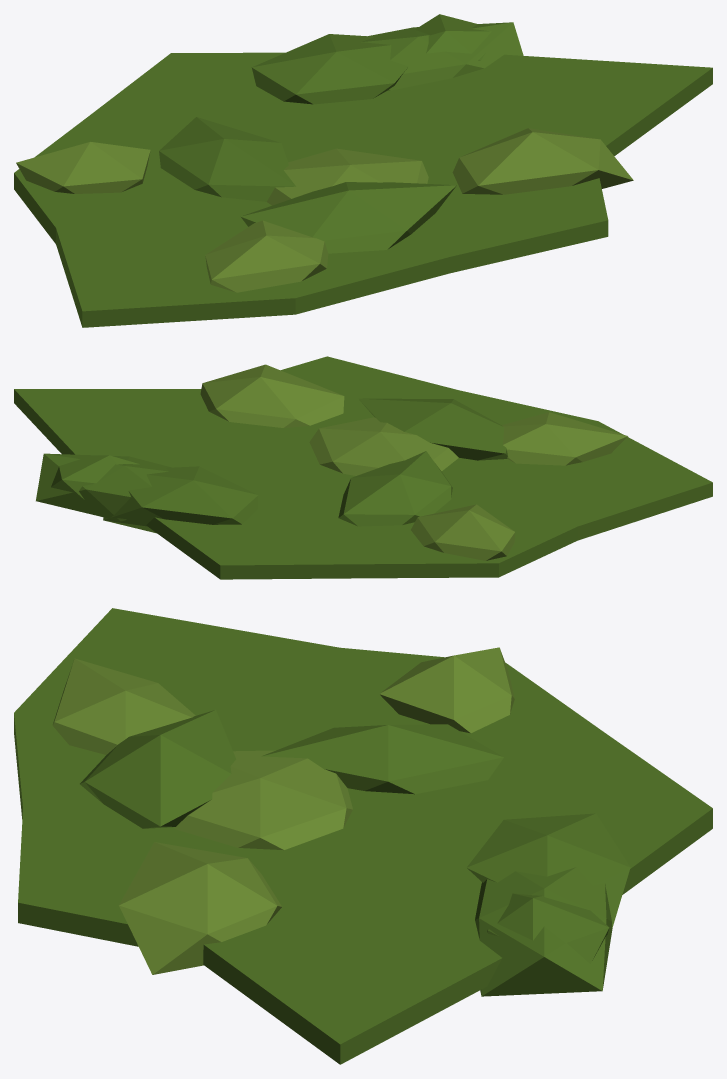
Rendered from moss_patch_idle.glb.
3 renders of one model, top to bottom at view 1: azimuth 30°, elevation 25°; view 2: azimuth 150°, elevation 25°; view 3: azimuth 270°, elevation 25°, orthographic. The views are drawn at different scales.
Parts seen in each view (by area): view 1: moss_patch; view 2: moss_patch; view 3: moss_patch.
Part boxes in pixels (<box>): moss_patch: <box>14,14,712,327</box>; moss_patch: <box>14,356,712,579</box>; moss_patch: <box>14,608,712,1064</box>.
Size of the model in its own units: 0.6878 by 0.0755 by 0.4656.
